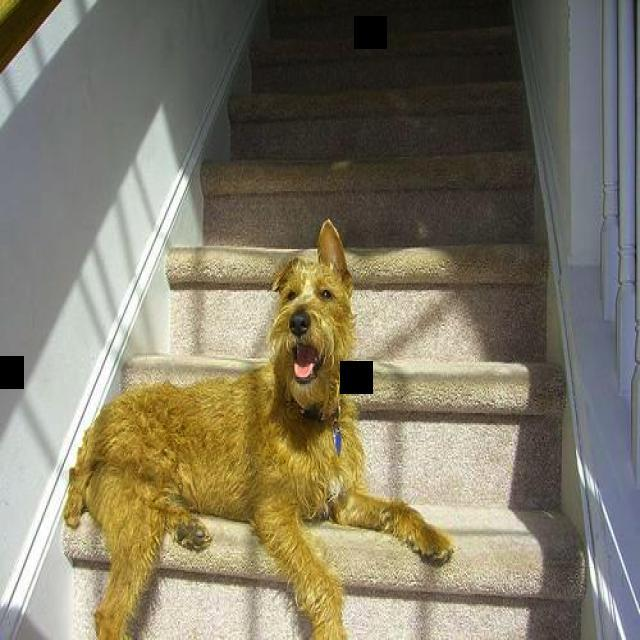adult_dog: (58, 217, 458, 640)
